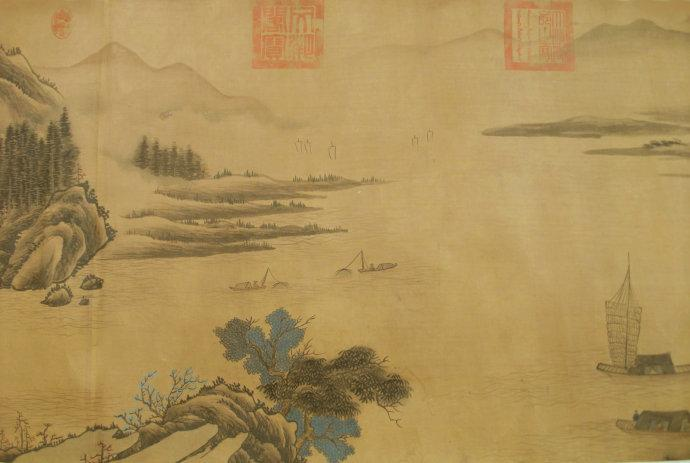boat: (593, 250, 684, 380), (615, 401, 654, 439), (353, 246, 406, 271), (231, 268, 286, 291), (412, 126, 433, 148), (325, 138, 340, 163), (298, 138, 315, 153), (631, 404, 640, 423)
grass: (158, 189, 247, 205), (127, 228, 219, 243), (179, 217, 225, 228), (238, 219, 281, 230), (294, 173, 338, 182), (642, 140, 686, 149), (271, 200, 307, 209), (306, 224, 344, 231), (239, 241, 273, 248), (358, 177, 383, 184)
range: (21, 47, 280, 125)
river: (311, 121, 652, 463), (19, 272, 259, 423)
tree: (217, 316, 403, 460), (1, 114, 87, 200), (135, 139, 218, 184)
